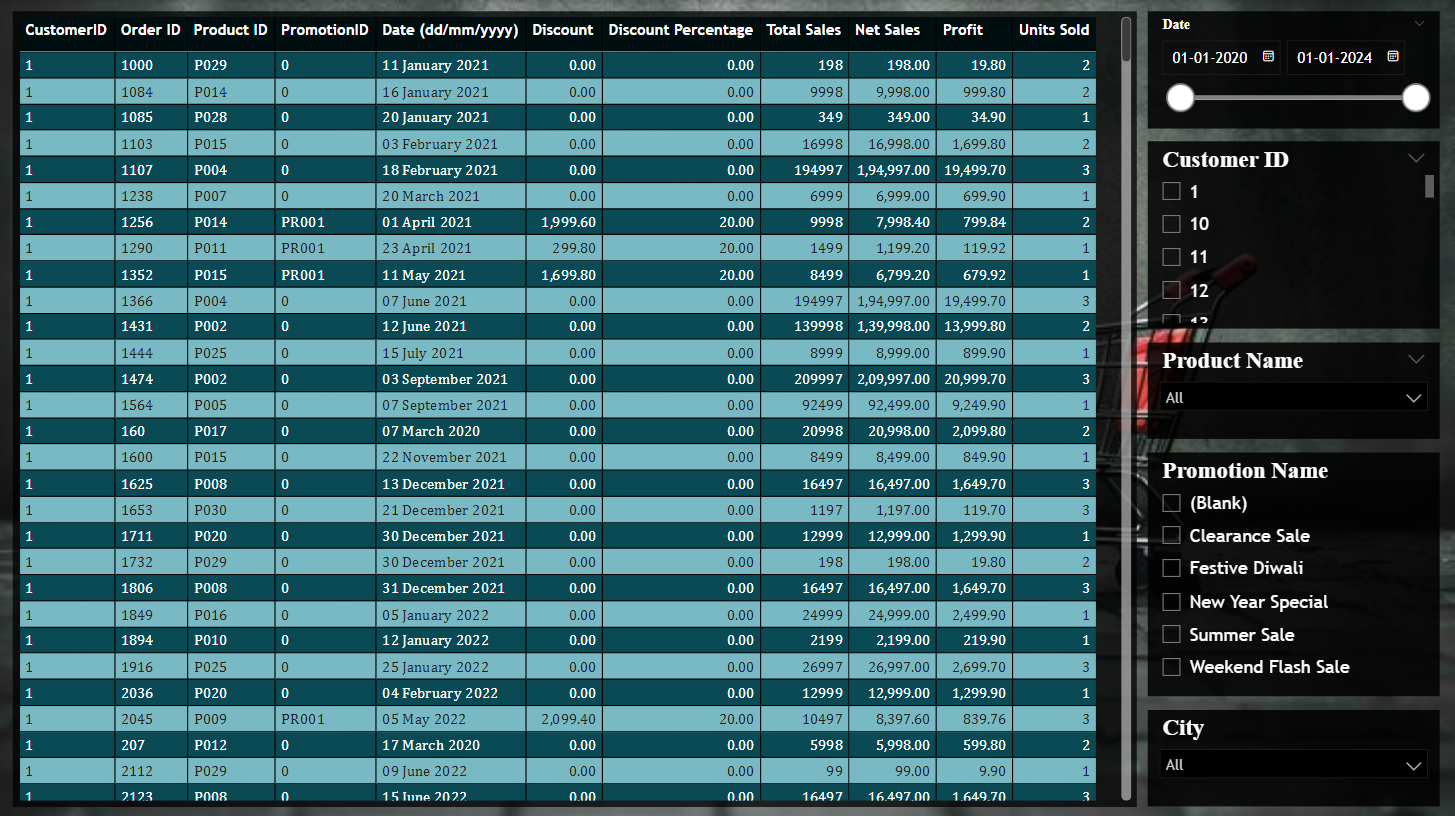

What the dashboard file says about the page in this screenshot:
{"tool":"powerbi","page":{"name":"Detailed Breakdown","canvas":[1280,720],"ordinal":5},"visuals":[{"type":"tableEx","fields":{"Values":["Fact Table.CustomerID","Fact Table.Order ID","Fact Table.Product ID","Fact Table.PromotionID","Fact Table.Date (dd/mm/yyyy)","Fact Table.Discount Value","Fact Table.Discount Percentage","Fact Table.Total Sales","Fact Table.Net Sales","Fact Table.Profit","Fact Table.Units Sold"]},"box":[12.1,9.7,989,699.7],"z":0},{"type":"slicer","fields":{"Values":["Fact Table.Date (dd/mm/yyyy)"]},"box":[1010.8,9.7,256.6,102.9],"z":1000},{"type":"slicer","fields":{"Values":["Dim Customers.Customer ID"]},"box":[1010.8,124.7,256.6,164.6],"z":2000},{"type":"slicer","fields":{"Values":["Dim Product.Product Name"]},"box":[1010.8,301.4,256.6,84.7],"z":3000},{"type":"slicer","fields":{"Values":["Dim Promotion.Promotion Name"]},"box":[1010.8,398.3,256.6,214.3],"z":4000},{"type":"slicer","fields":{"Values":["Dim Customers.City"]},"box":[1010.8,624.6,256.6,84.7],"z":5000}]}

Visuals, with their boxes in screenshot pixels (x1, y1, x2, y2), scaled from the page's 1280x720 canvas onto the 1455x816 screenshot:
tableEx - Fact Table.CustomerID x Fact Table.Order ID: pyautogui.locateOnScreen(14, 11, 1138, 804)
slicer - Fact Table.Date (dd/mm/yyyy): pyautogui.locateOnScreen(1149, 11, 1441, 128)
slicer - Dim Customers.Customer ID: pyautogui.locateOnScreen(1149, 141, 1441, 328)
slicer - Dim Product.Product Name: pyautogui.locateOnScreen(1149, 342, 1441, 438)
slicer - Dim Promotion.Promotion Name: pyautogui.locateOnScreen(1149, 451, 1441, 694)
slicer - Dim Customers.City: pyautogui.locateOnScreen(1149, 708, 1441, 804)
